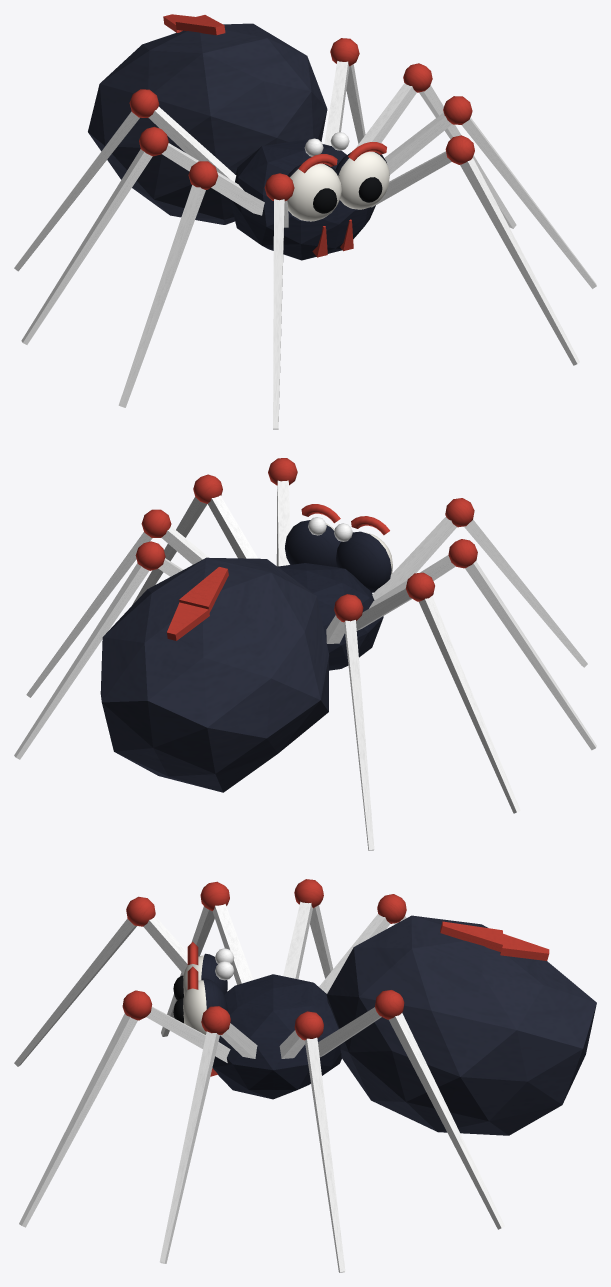
File: spider.glb
The picture shows the model from 3 angles, top to bottom: view 1: azimuth 30°, elevation 25°; view 2: azimuth 150°, elevation 25°; view 3: azimuth 270°, elevation 25°; orthographic projection.
Visible parts, largest first — view 1: abdomen, body, head, knee3, knee0, knee5, knee1, knee2, knee7, knee4, leg7, knee6 (+6 smaller); view 2: abdomen, head, body, knee5, knee6, knee3, knee7, knee1, knee4, knee2, leg1, leg2 (+5 smaller); view 3: abdomen, body, knee6, knee0, head, knee2, knee4, knee1, knee5, knee3, leg3, leg5 (+6 smaller).
Boxes of the visible parts, x1,y1,x2,y2 form: abdomen: (88, 14, 327, 224); body: (229, 139, 375, 260); head: (287, 132, 389, 221); knee3: (118, 161, 218, 407); knee0: (445, 135, 579, 365); knee5: (21, 126, 168, 344); knee1: (264, 173, 294, 429); knee2: (443, 96, 596, 288); knee7: (14, 89, 159, 271); knee4: (403, 63, 516, 228); leg7: (148, 106, 236, 181); knee6: (330, 38, 365, 143); abdomen: (100, 557, 329, 792); head: (285, 504, 392, 592); body: (278, 563, 383, 670); knee5: (405, 572, 520, 813); knee6: (14, 541, 165, 759); knee3: (448, 539, 596, 750); knee7: (334, 594, 374, 850); knee1: (445, 498, 587, 667); knee4: (26, 509, 171, 697); knee2: (132, 474, 222, 605); leg1: (372, 517, 456, 600); leg2: (208, 495, 257, 558); abdomen: (326, 915, 596, 1135); body: (212, 974, 341, 1099); knee6: (375, 990, 504, 1229); knee0: (19, 990, 152, 1227); head: (173, 942, 234, 1034); knee2: (159, 1006, 230, 1263); knee4: (294, 1011, 345, 1272); knee1: (14, 896, 155, 1066); knee5: (294, 879, 333, 978); knee3: (161, 881, 229, 1036); leg3: (212, 904, 253, 984); leg5: (283, 901, 312, 979).
Bounding box in the file's own units: 0.8365 × 0.3638 × 0.8402.
12 materials, 9 textured.
